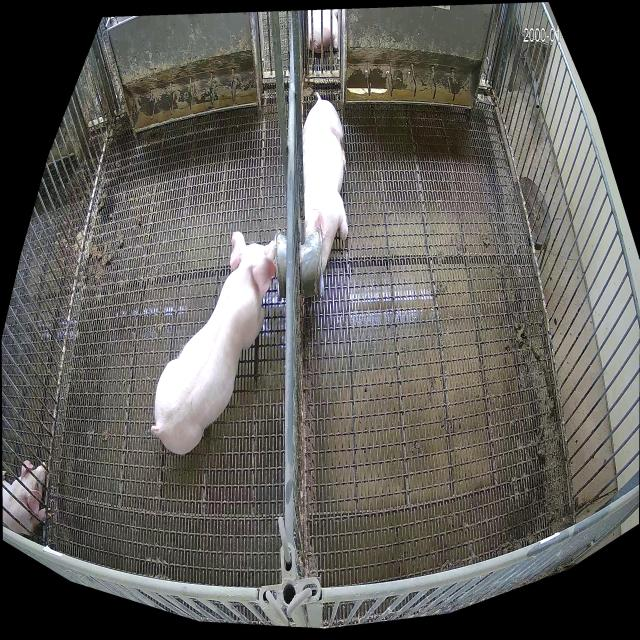pig: (151, 233, 276, 455), (302, 99, 348, 271)
